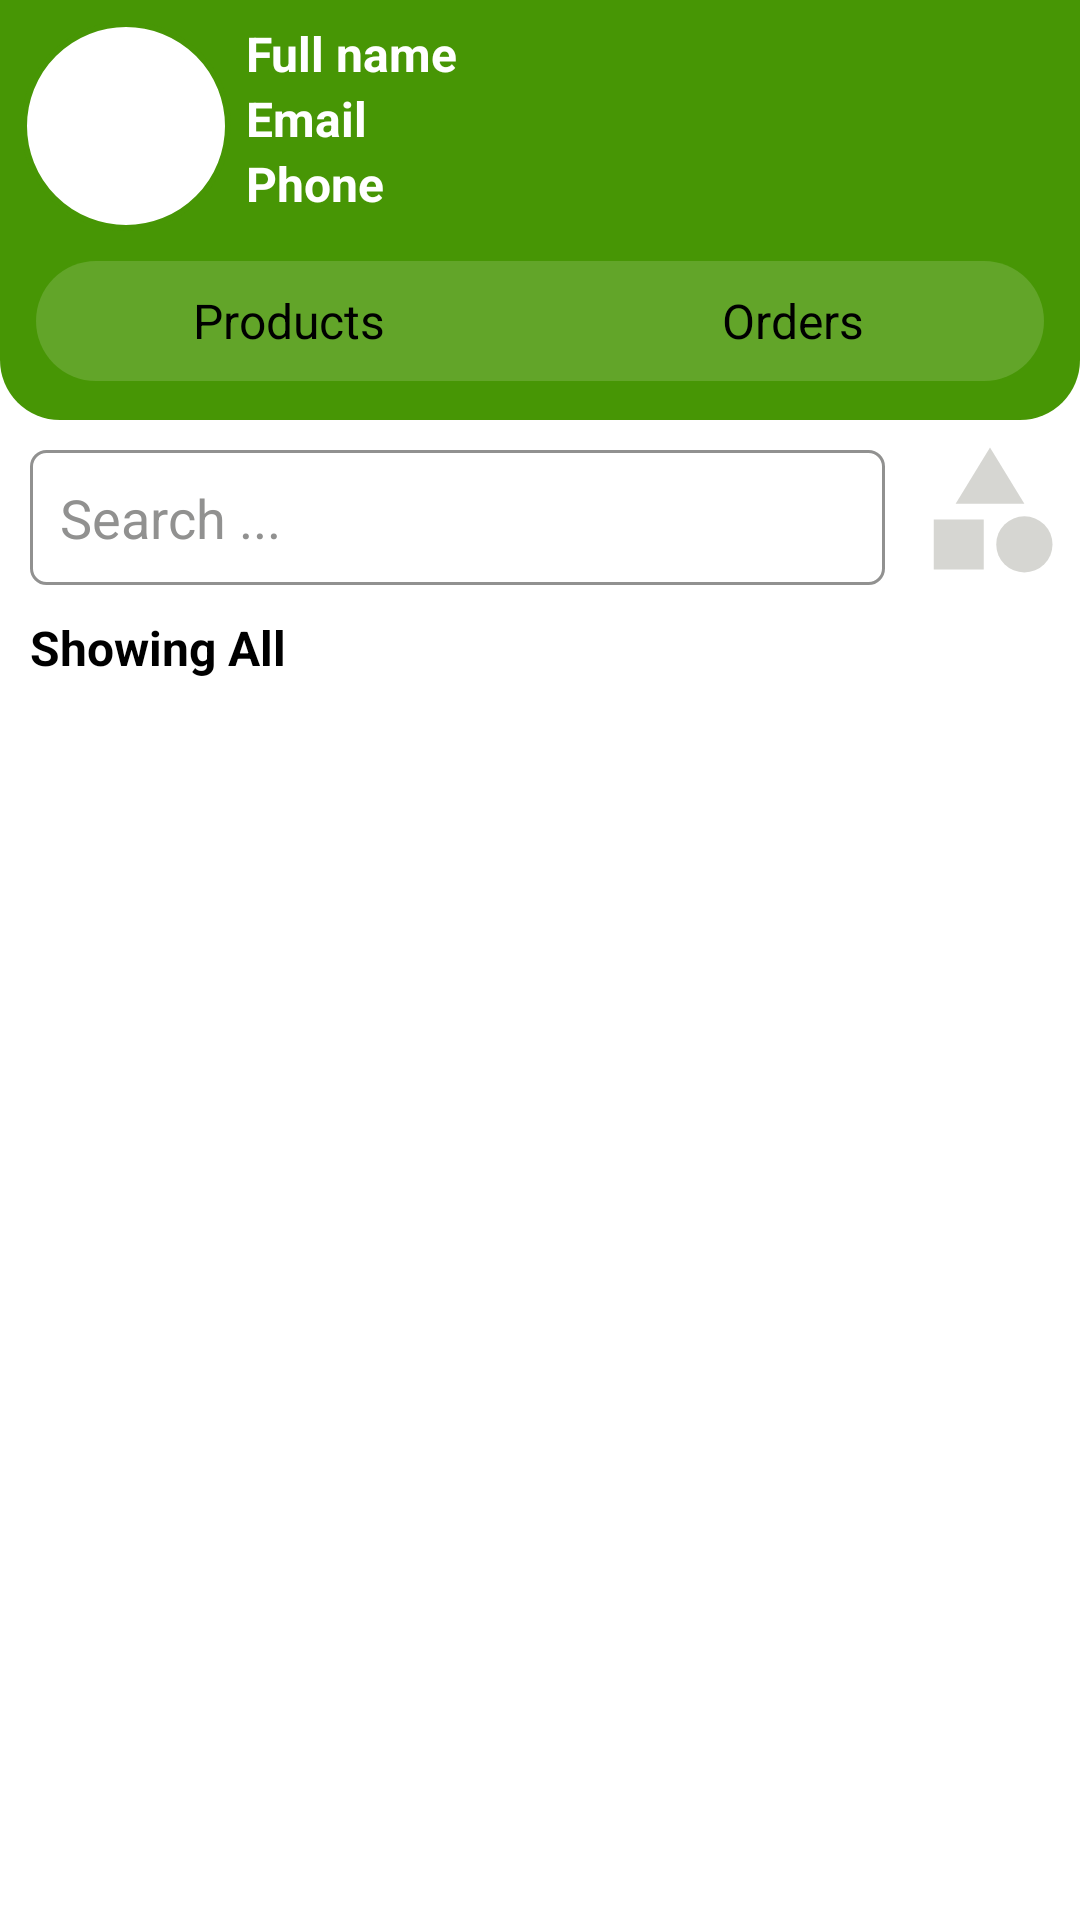

Icon bounding boxes for this 1080 × 1920 phone screenshot, format (left=x1, top=y1, right=x2, bottom=y2):
category: (left=934, top=448, right=1052, bottom=572)
